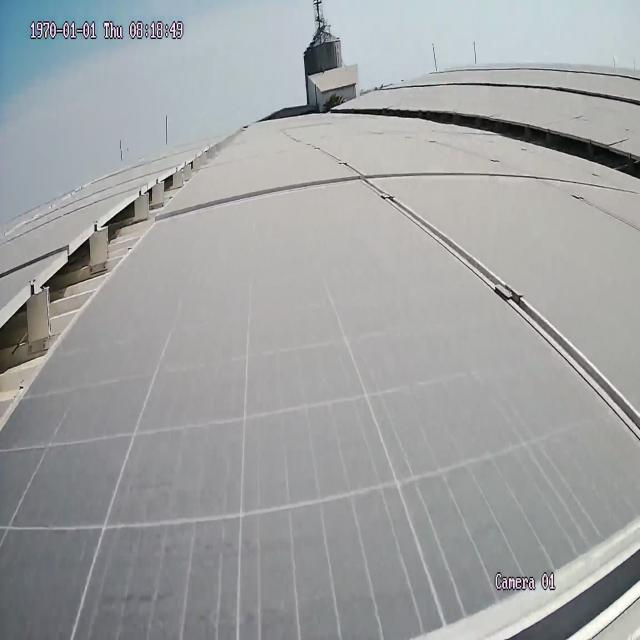interior panel: (162, 167, 640, 430), (473, 525, 640, 640)
outher panel: (2, 140, 236, 384), (348, 107, 640, 186)
